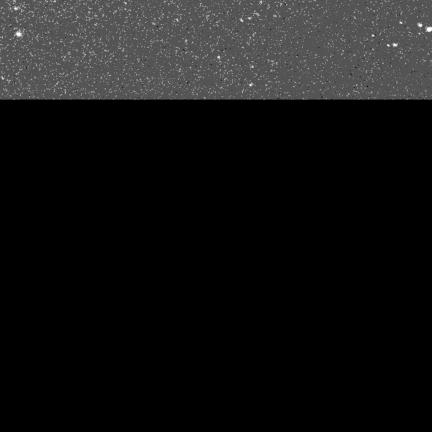blob: (16, 32, 21, 37), (426, 27, 431, 32), (417, 23, 422, 27), (392, 43, 397, 47), (249, 83, 254, 87), (218, 56, 221, 60), (372, 34, 375, 38), (400, 22, 403, 25), (387, 44, 390, 47)
